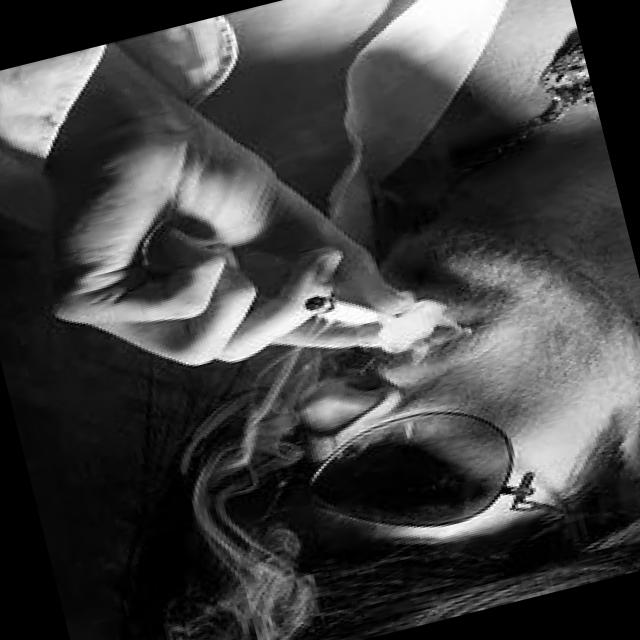smoke: (297, 274, 403, 344)
